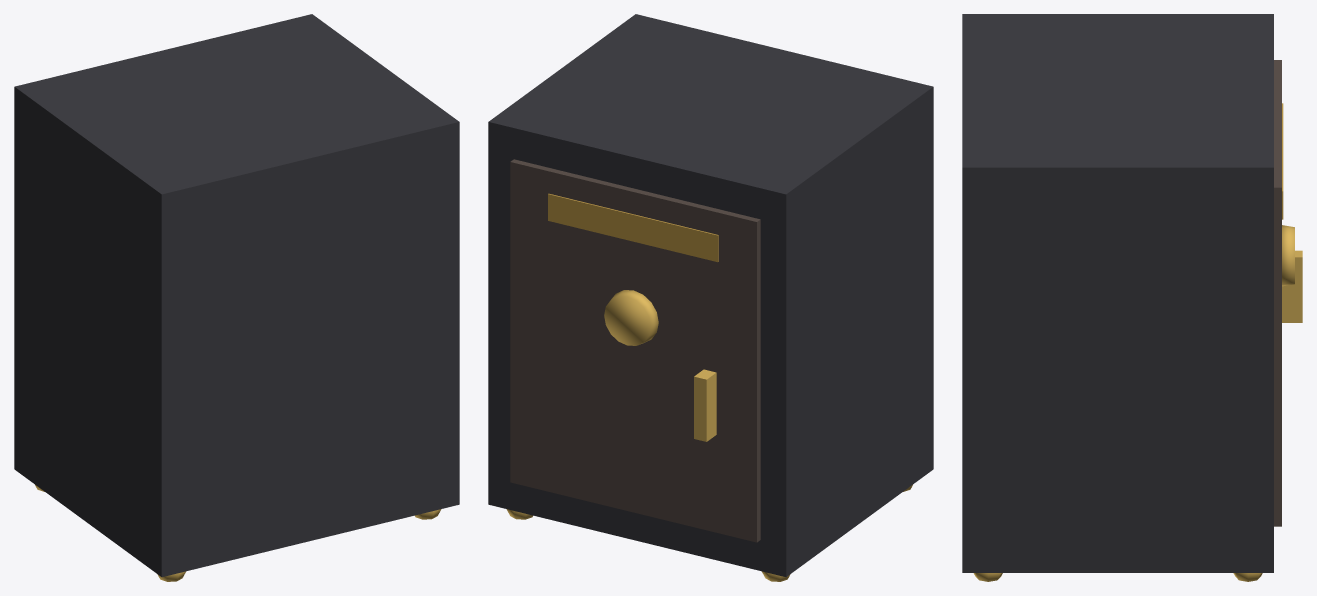
Rendered from SM_PRP_Cofre.fbx.
3 views of the same model, side by side, from view 1: azimuth 30°, elevation 25°; view 2: azimuth 150°, elevation 25°; view 3: azimuth 270°, elevation 25° (orthographic). The views are drawn at different scales.
Parts seen in each view (by area): view 1: SM_PRP_Cofre; view 2: SM_PRP_Cofre; view 3: SM_PRP_Cofre.
Boxes of the visible parts, bbox=[...] form: SM_PRP_Cofre: bbox=[14, 14, 459, 581]; SM_PRP_Cofre: bbox=[488, 14, 933, 581]; SM_PRP_Cofre: bbox=[962, 14, 1302, 581].
Bounding box in the file's own units: 0.7 × 0.9 × 0.655.
